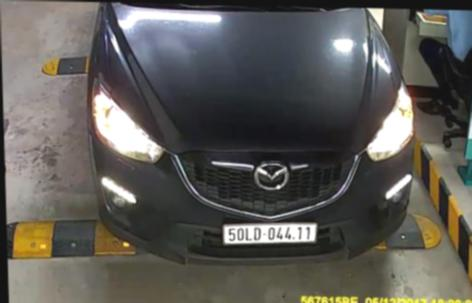License_Plate: (218, 216, 320, 252)
